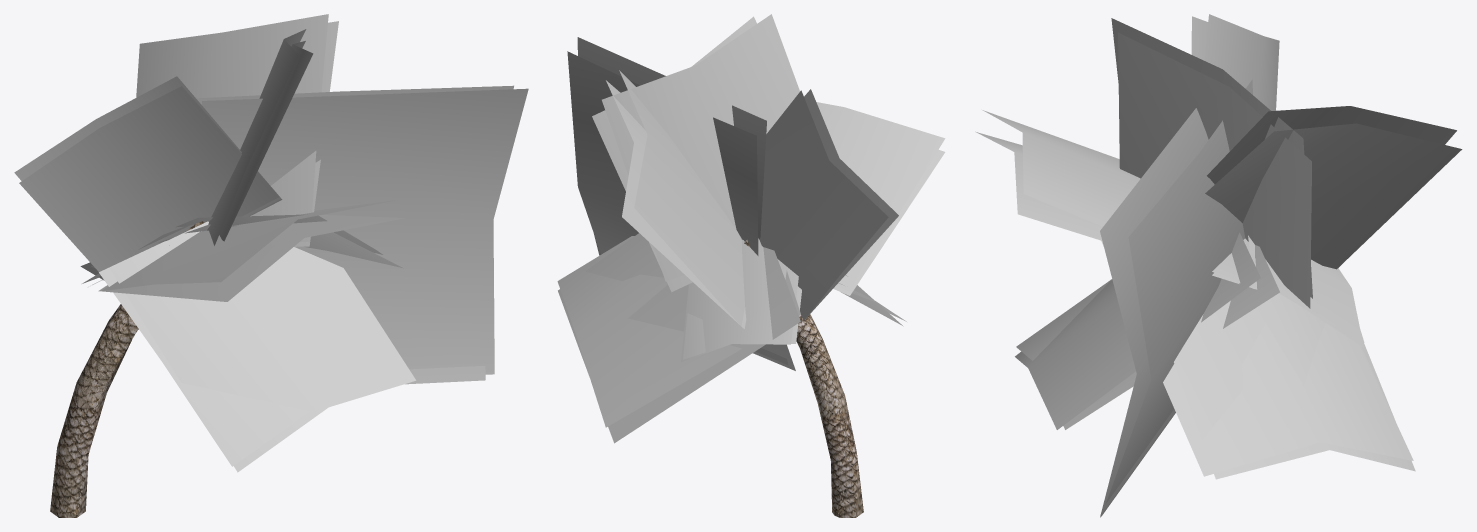
File: palm_tree_10_LOD1.FBX
The picture shows the model from 3 angles, left to right: view 1: azimuth 30°, elevation 25°; view 2: azimuth 150°, elevation 25°; view 3: azimuth 270°, elevation 25°; orthographic projection. The views are drawn at different scales.
Visible parts, largest first — view 1: leaves007, bark008; view 2: leaves007, bark008; view 3: leaves007.
Boxes of the visible parts, left/top/right/bottom form: leaves007: left=14, top=14, right=528, bottom=472; bark008: left=50, top=221, right=204, bottom=517; leaves007: left=557, top=14, right=945, bottom=443; bark008: left=744, top=240, right=863, bottom=517; leaves007: left=975, top=14, right=1462, bottom=517.
Bounding box in the file's own units: 9.09 × 8 × 9.36.
